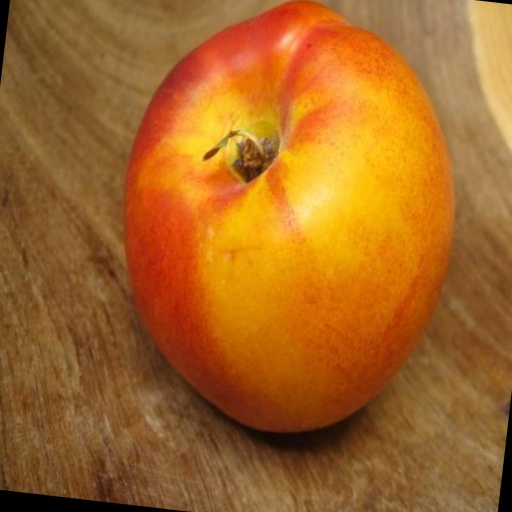fruit: (124, 1, 453, 431)
